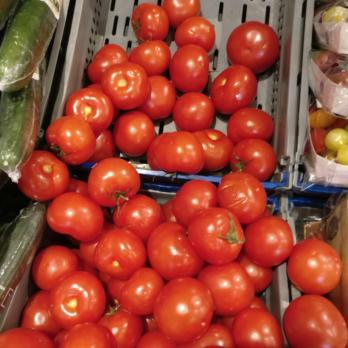Tomato: (59, 197, 283, 342), (127, 0, 278, 178), (26, 112, 134, 203)
